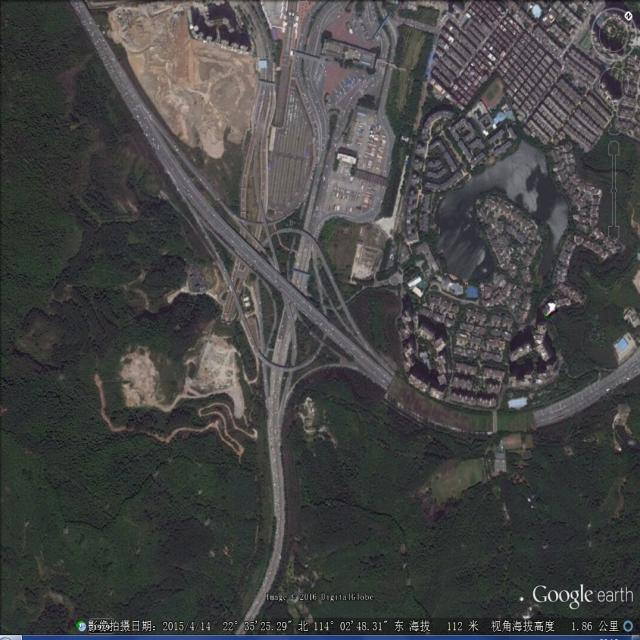overpass: (183, 185, 392, 424)
